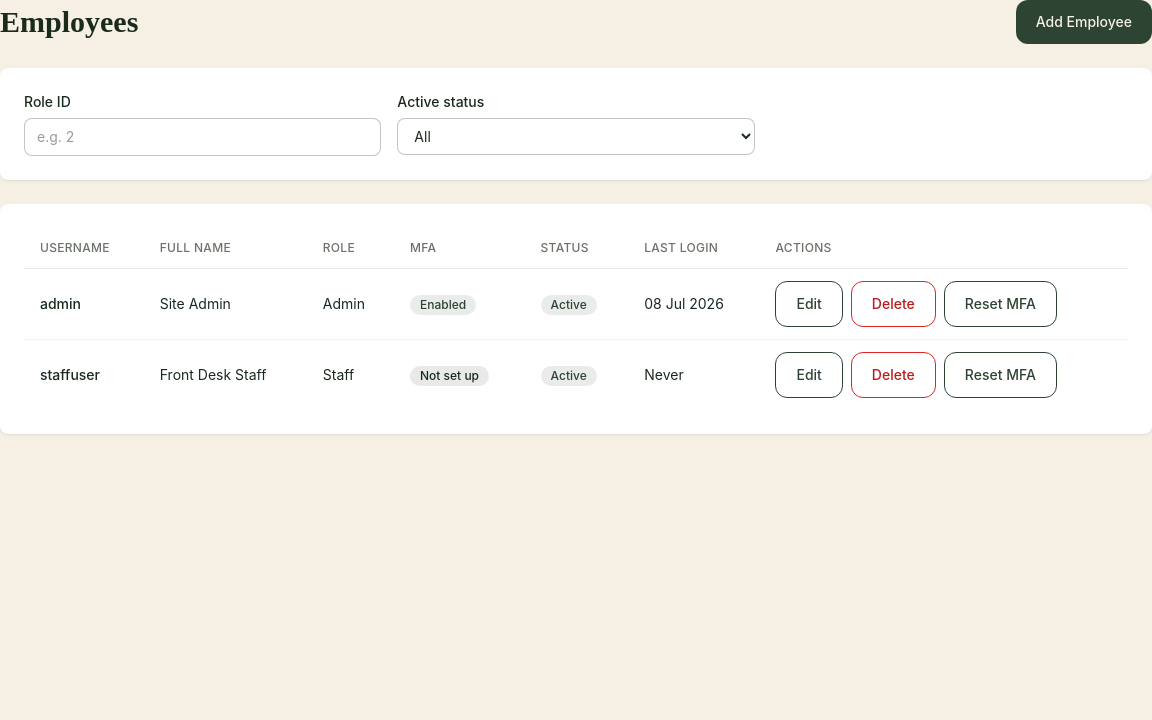
Test: EmployeesPage self-lockout protection › renders the distinct self-lockout message on a 403 from PATCH /auth/employees/:id, not the generic fallback
Expected: the text "admin" is shown, [24,268,144,340]
Click the button "Edit" in the row of "Site Admin". click: x=809, y=304
box: [776,281,843,327]
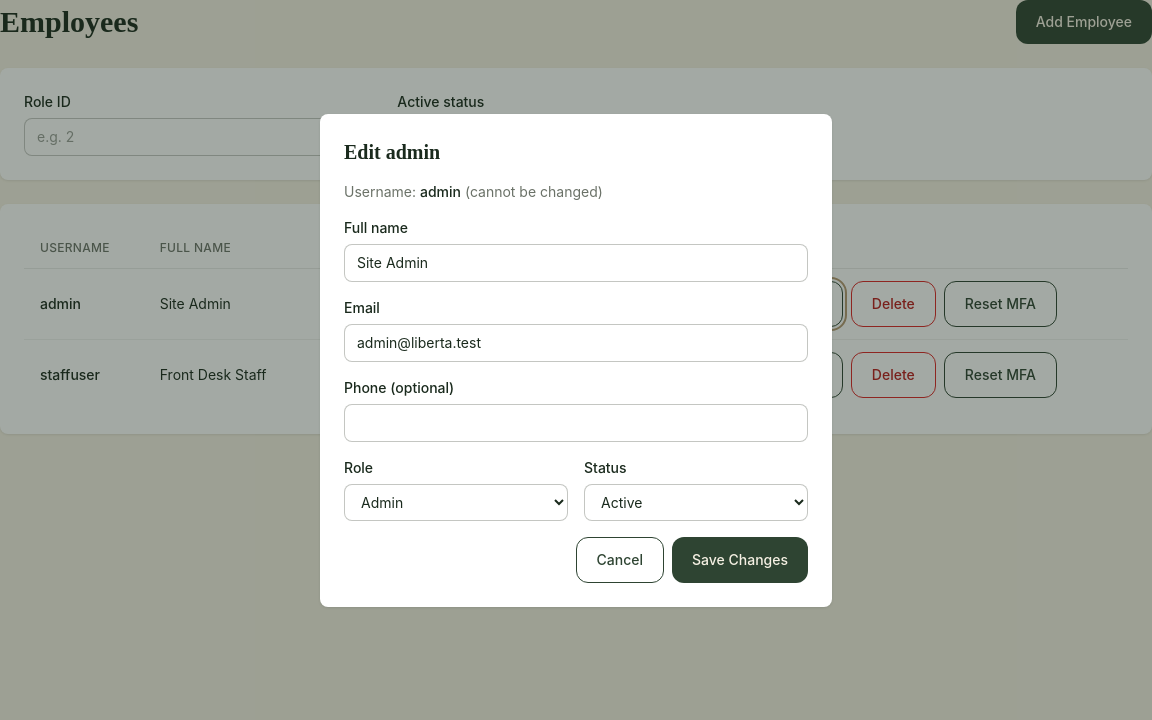
Select "Inactive (cannot log in)" in the dropdown labelled "Status". click: x=696, y=502
box: [584,484,808,520]
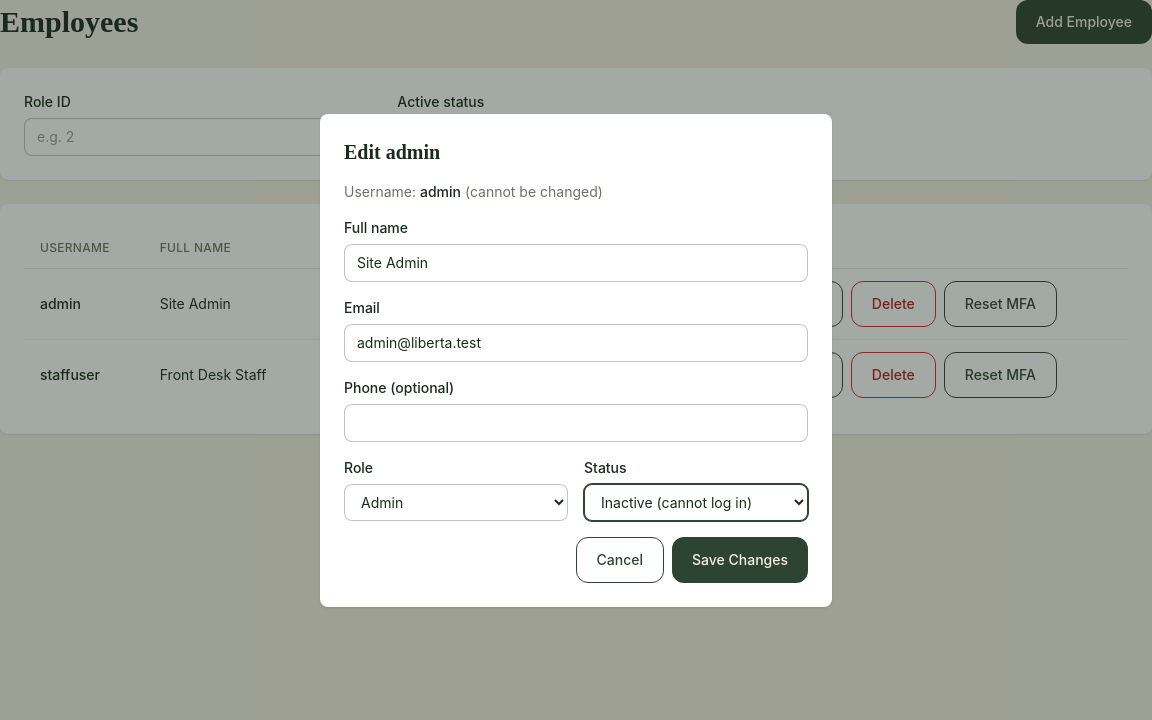
Click the button "Save Changes". click: x=740, y=560
box: [672,536,808,582]
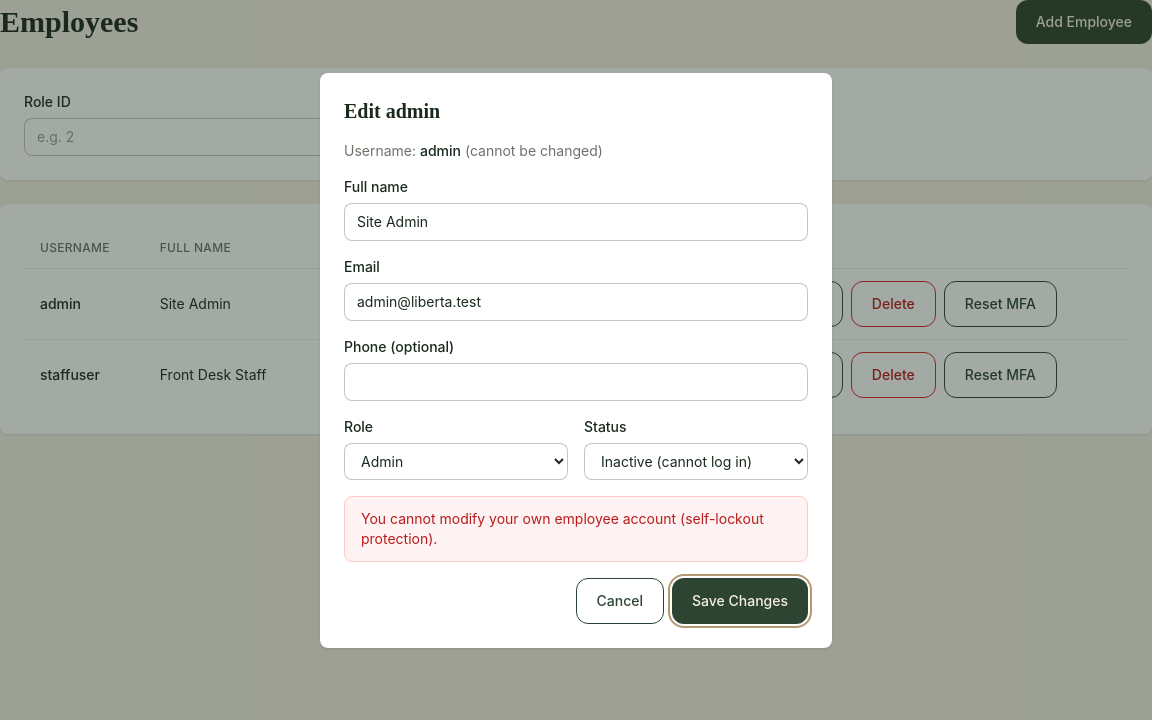
Now the text "You cannot modify your own employee account (self-lockout protection)." is shown, box [344,496,808,562]
